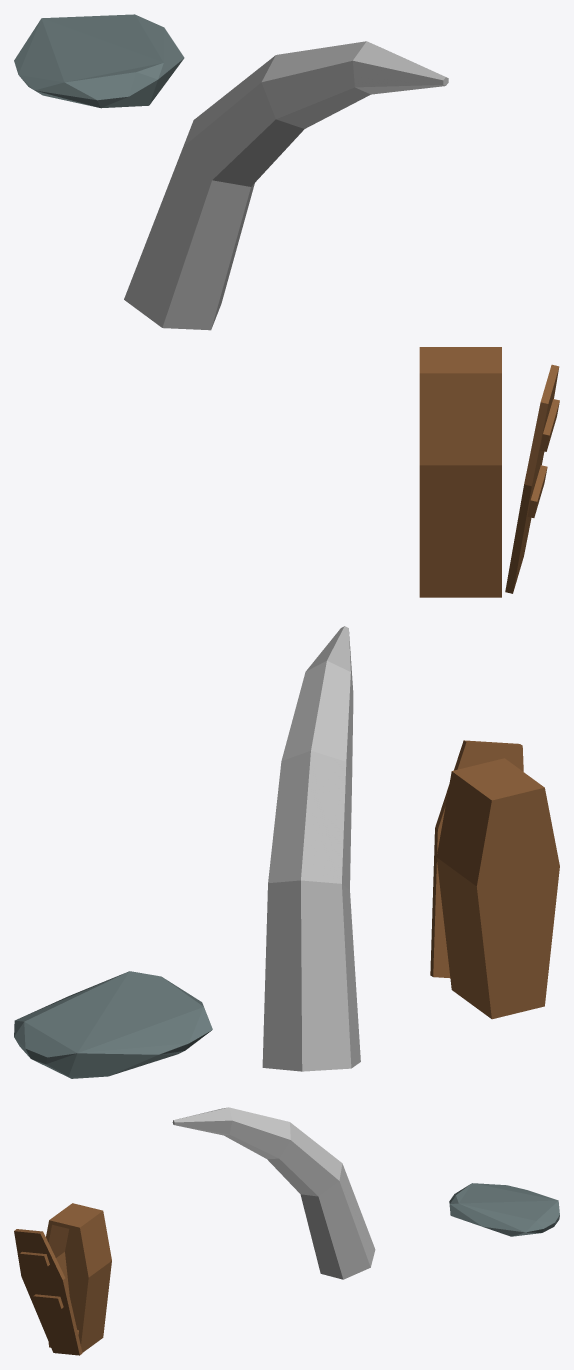
3 renders of one model, top to bottom at view 1: azimuth 30°, elevation 25°; view 2: azimuth 150°, elevation 25°; view 3: azimuth 270°, elevation 25°, orthographic. The views are drawn at different scales.
Parts seen in each view (by area): view 1: Line1331_grey_0, Box805_brown_0, Box893_rock_0, Box806_brown_0; view 2: Line1331_grey_0, Box805_brown_0, Box893_rock_0, Box806_brown_0; view 3: Line1331_grey_0, Box805_brown_0, Box806_brown_0, Box893_rock_0.
Boxes of the visible parts, left/top/right/bottom form: Line1331_grey_0: left=124, top=41, right=448, bottom=330; Box805_brown_0: left=419, top=347, right=501, bottom=597; Box893_rock_0: left=14, top=14, right=184, bottom=108; Box806_brown_0: left=505, top=364, right=559, bottom=593; Line1331_grey_0: left=262, top=626, right=360, bottom=1071; Box805_brown_0: left=436, top=758, right=559, bottom=1019; Box893_rock_0: left=14, top=971, right=212, bottom=1078; Box806_brown_0: left=430, top=740, right=523, bottom=977; Line1331_grey_0: left=172, top=1107, right=375, bottom=1279; Box805_brown_0: left=46, top=1203, right=111, bottom=1352; Box806_brown_0: left=14, top=1229, right=82, bottom=1355; Box893_rock_0: left=449, top=1183, right=559, bottom=1236.
Size of the model in its own units: 167 by 361 by 720.
